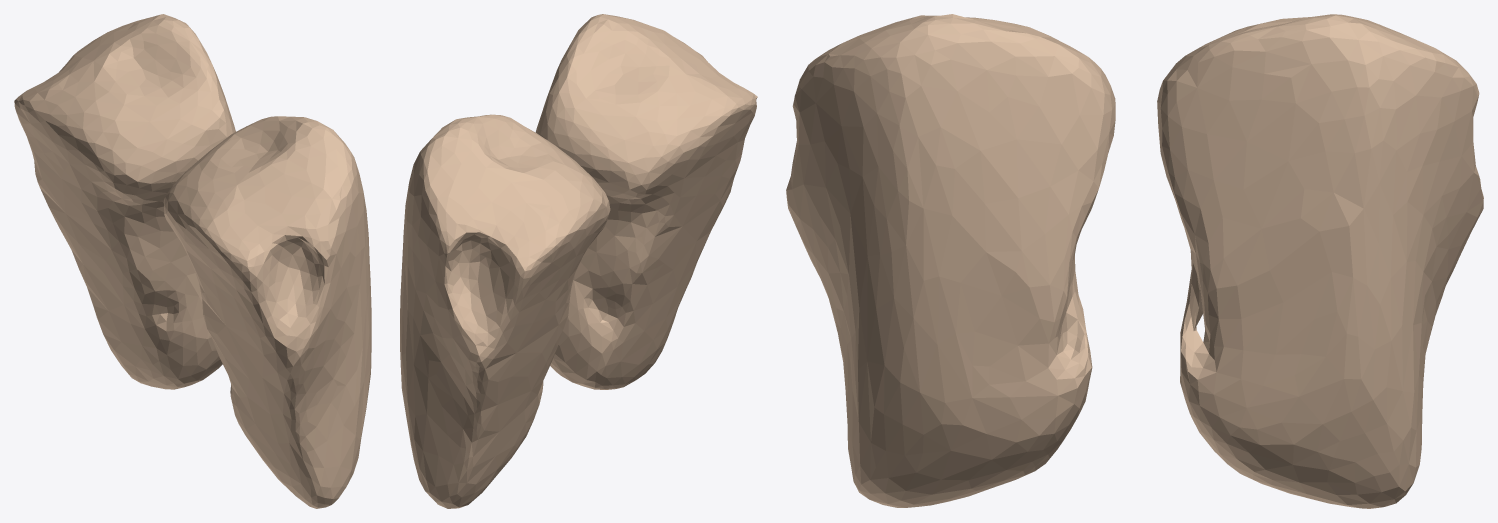
3 renders of one model, left to right at view 1: azimuth 30°, elevation 25°; view 2: azimuth 150°, elevation 25°; view 3: azimuth 270°, elevation 25°, orthographic. The views are drawn at different scales.
Visible parts, largest first — view 1: 1093.obj; view 2: 1093.obj; view 3: 1093.obj.
Part boxes in pixels (left/top/right/bottom): 1093.obj: left=14, top=14, right=371, bottom=508; 1093.obj: left=400, top=14, right=757, bottom=508; 1093.obj: left=786, top=14, right=1483, bottom=508.
Bounding box in the file's own units: 1038 × 2094 × 2662.
